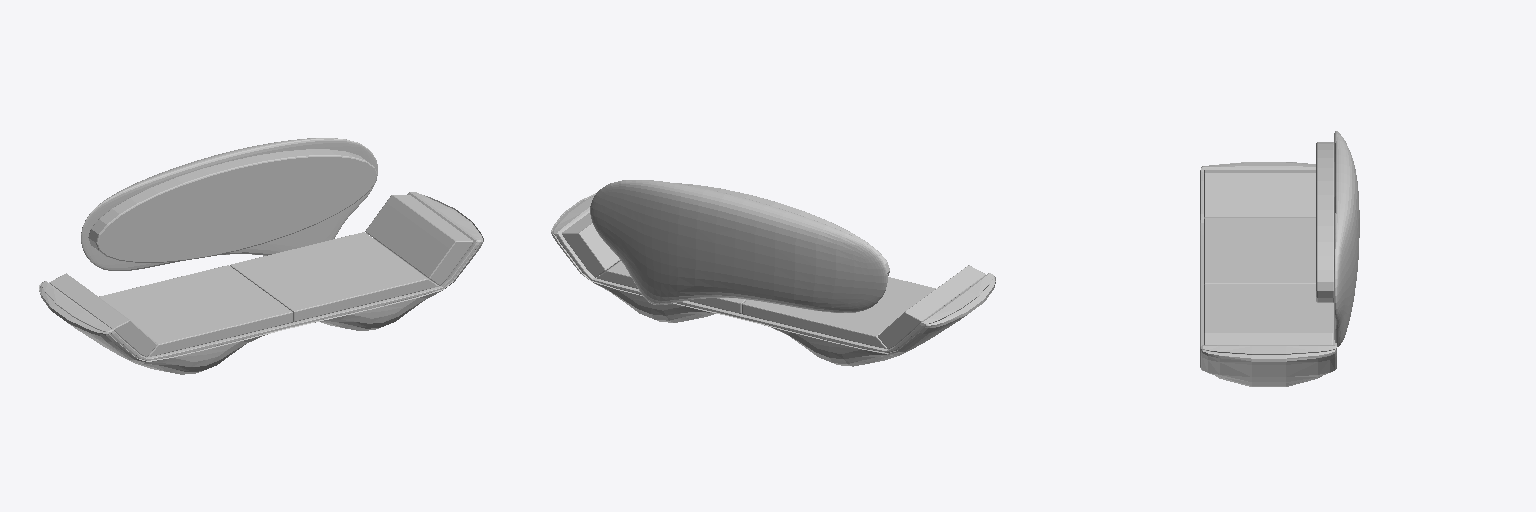
Rendered from TherapyCouchNew.obj.
3 views of the same model, side by side, from view 1: azimuth 30°, elevation 25°; view 2: azimuth 150°, elevation 25°; view 3: azimuth 270°, elevation 25° (orthographic).
Visible parts, largest first — view 1: Back_Cushion; view 2: Back_Cushion; view 3: Back_Cushion.
Boxes of the visible parts, x1,y1,x2,y2 form: Back_Cushion: [39, 138, 483, 374]; Back_Cushion: [551, 180, 995, 366]; Back_Cushion: [1200, 131, 1359, 386].
Size of the model in its own units: 27.24 by 10.31 by 9.3.